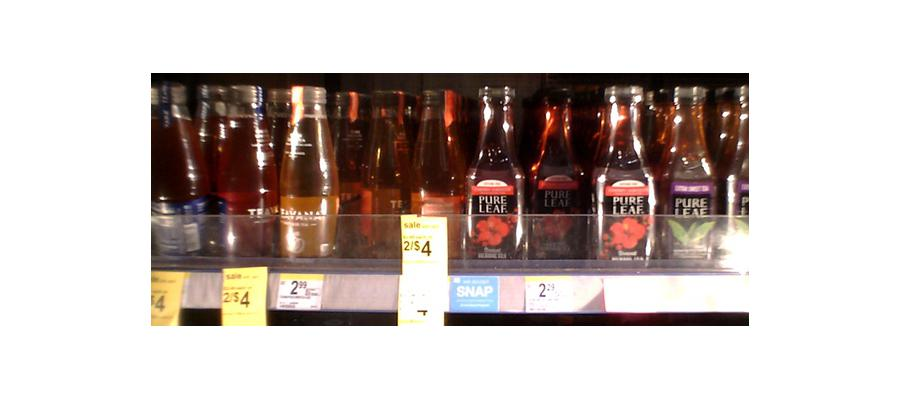bottle: (206, 83, 276, 260), (272, 82, 335, 266), (592, 82, 653, 267), (463, 84, 523, 265), (150, 77, 209, 260), (662, 79, 719, 263), (529, 91, 584, 263), (336, 86, 390, 251), (356, 81, 413, 237), (409, 88, 464, 227)
